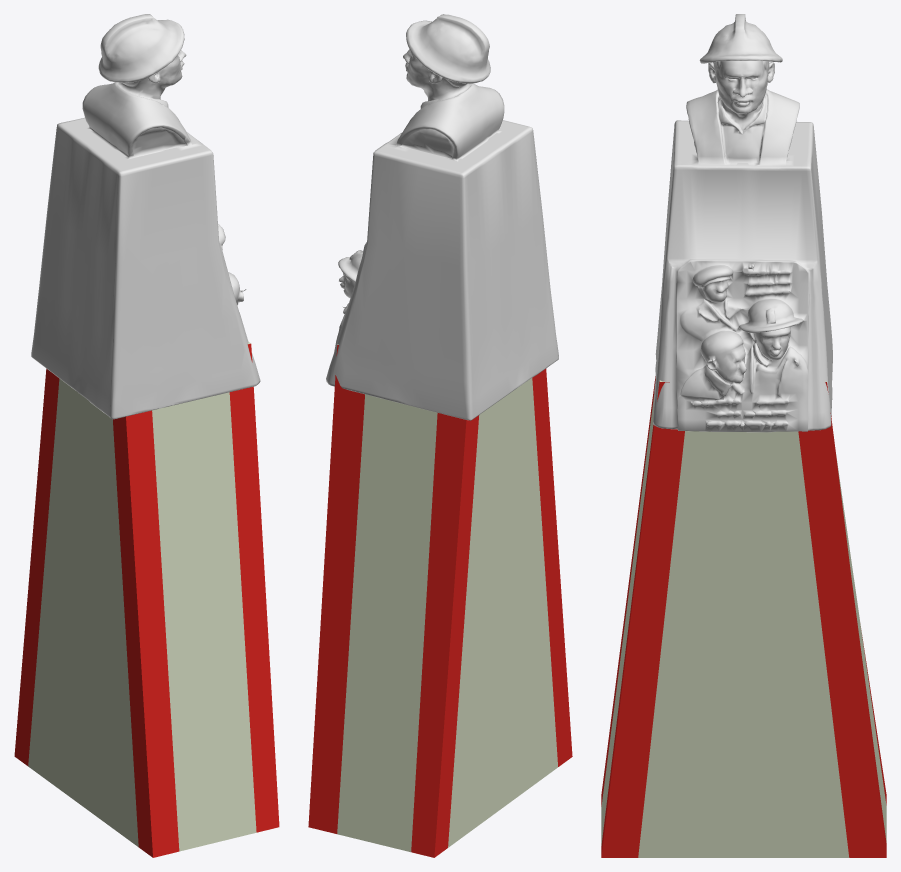
Rendered from Pedestalescobar.glb.
3 views of the same model, side by side, from view 1: azimuth 30°, elevation 25°; view 2: azimuth 150°, elevation 25°; view 3: azimuth 270°, elevation 25° (orthographic). The views are drawn at different scales.
Parts seen in each view (by area): view 1: Cube.001, Mesh_0; view 2: Cube.001, Mesh_0; view 3: Cube.001, Mesh_0.
Part boxes in pixels (x1,y1,x2,y2): Cube.001: (14,341,279,857); Mesh_0: (31,14,260,419); Cube.001: (308,344,572,857); Mesh_0: (326,14,558,420); Cube.001: (601,376,886,857); Mesh_0: (653,14,832,432).
Bounding box in the file's own units: 1.3 × 5.88 × 1.9.
